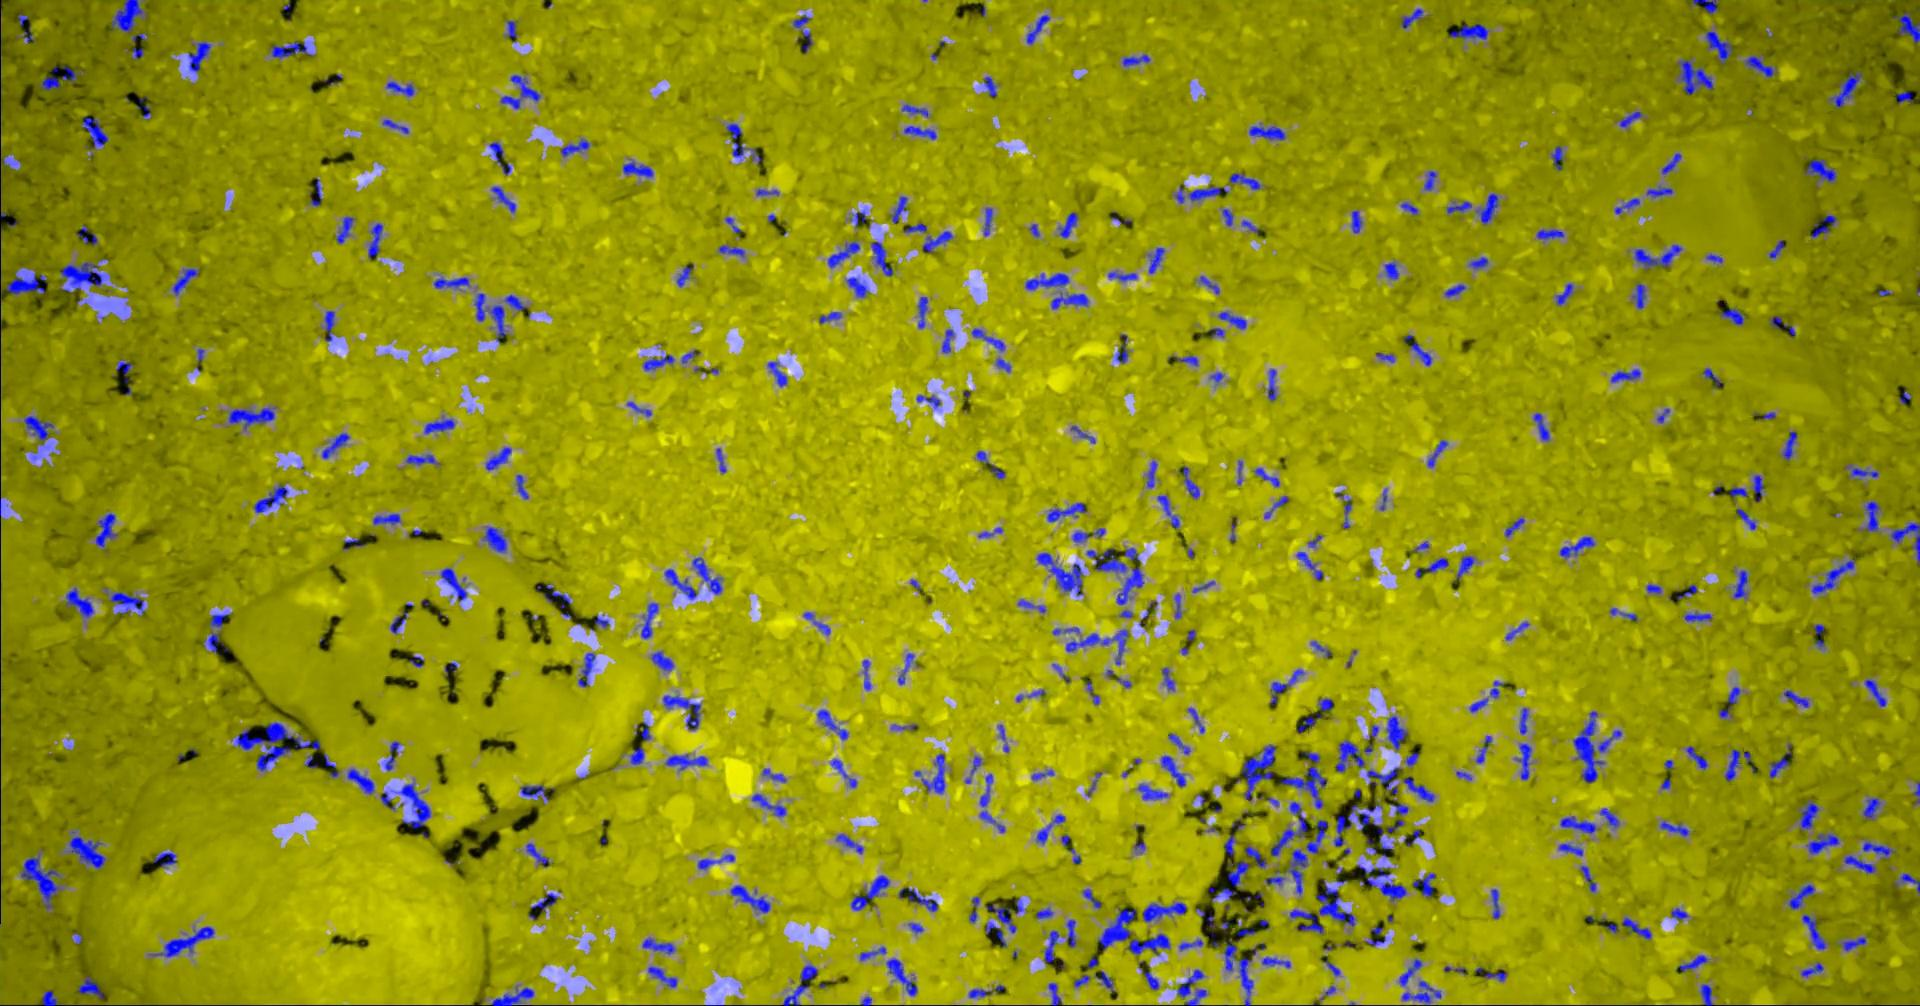ant: (1572, 711, 1622, 782), (1280, 751, 1326, 808), (1355, 804, 1403, 857), (1065, 629, 1128, 664), (20, 854, 60, 908), (1239, 744, 1275, 800), (150, 926, 215, 956), (1223, 937, 1252, 1005), (1270, 801, 1307, 855), (1036, 553, 1082, 594), (1356, 864, 1406, 901), (394, 782, 430, 828), (1208, 861, 1250, 901), (1316, 883, 1355, 925), (474, 293, 505, 343), (1811, 558, 1854, 593), (782, 964, 817, 1005), (69, 831, 105, 868), (850, 875, 889, 909), (662, 695, 700, 729), (1677, 58, 1713, 94), (536, 583, 571, 617), (1829, 70, 1862, 107), (60, 262, 103, 290), (1890, 522, 1919, 563), (1297, 699, 1332, 732), (1634, 244, 1681, 268), (1270, 669, 1303, 704), (39, 64, 80, 90), (692, 558, 721, 594), (886, 958, 916, 995), (1175, 183, 1227, 203), (730, 885, 770, 912), (229, 406, 274, 429), (1116, 567, 1143, 605), (110, 0, 142, 32), (664, 568, 696, 600), (253, 484, 288, 512), (0, 272, 46, 293), (1284, 848, 1305, 894), (1086, 547, 1126, 572), (1401, 981, 1441, 1005), (1333, 804, 1356, 846), (898, 887, 937, 911), (817, 709, 847, 739), (1705, 30, 1732, 65), (439, 567, 466, 601), (921, 753, 943, 793), (1335, 741, 1364, 771), (1366, 767, 1399, 794), (1403, 334, 1431, 365), (65, 587, 93, 617), (985, 904, 1016, 932), (1892, 11, 1919, 43), (1724, 748, 1751, 780), (1142, 902, 1186, 921), (1289, 909, 1323, 934), (510, 74, 540, 102), (81, 116, 107, 147), (827, 241, 858, 267), (110, 591, 143, 615), (750, 793, 785, 815), (1802, 915, 1825, 949), (977, 450, 1004, 478), (1297, 551, 1323, 580), (23, 415, 53, 441), (1025, 272, 1068, 290), (1161, 754, 1185, 786), (1402, 777, 1434, 801), (971, 328, 1004, 351), (321, 432, 349, 459), (1177, 969, 1204, 997), (491, 987, 533, 1005), (830, 758, 856, 788), (1559, 536, 1594, 558), (1385, 715, 1407, 749), (1769, 743, 1790, 777), (1305, 819, 1327, 854), (792, 14, 811, 52), (1743, 55, 1775, 77), (1046, 502, 1084, 521), (270, 41, 314, 57), (489, 141, 510, 174), (171, 268, 198, 295), (1787, 884, 1815, 909), (1026, 14, 1049, 44), (1804, 159, 1835, 182), (1476, 193, 1498, 224), (871, 241, 891, 276), (95, 512, 116, 546), (188, 41, 210, 72), (1157, 495, 1178, 527), (1806, 833, 1839, 854), (922, 230, 952, 251), (1718, 686, 1740, 716), (1248, 122, 1285, 140), (1559, 815, 1596, 833), (726, 123, 745, 158), (577, 652, 596, 686), (1449, 23, 1488, 39), (491, 185, 516, 212), (347, 768, 373, 793), (1622, 916, 1651, 937), (1415, 558, 1448, 577), (1810, 215, 1836, 238), (483, 526, 505, 553), (803, 611, 829, 634), (1398, 958, 1421, 984), (1335, 492, 1351, 528), (640, 602, 657, 638), (1515, 743, 1531, 779), (1843, 855, 1876, 873), (665, 754, 707, 768), (1411, 873, 1435, 897), (1050, 292, 1088, 307), (77, 976, 103, 998), (1864, 680, 1886, 706), (1427, 439, 1448, 467), (1138, 962, 1158, 989), (648, 967, 676, 987), (116, 359, 132, 394), (367, 222, 382, 259), (697, 854, 734, 869), (1263, 495, 1288, 518), (524, 843, 549, 866), (485, 447, 510, 469), (979, 810, 1004, 832), (1229, 171, 1260, 189), (1769, 316, 1796, 337), (836, 833, 862, 854), (1182, 465, 1199, 497), (897, 652, 913, 683), (643, 937, 674, 954), (560, 138, 589, 156), (1217, 311, 1246, 329), (1137, 782, 1167, 799), (521, 785, 554, 800), (1862, 841, 1895, 856), (1531, 412, 1549, 439), (1801, 800, 1818, 828), (1399, 8, 1423, 28), (985, 922, 1006, 946), (1058, 212, 1077, 238), (767, 361, 786, 386), (423, 418, 455, 433), (1253, 467, 1279, 486), (1043, 930, 1058, 962), (1677, 954, 1707, 970), (335, 216, 353, 243), (1244, 846, 1266, 868), (622, 161, 653, 177), (846, 277, 869, 297), (643, 354, 673, 370), (1686, 746, 1707, 768), (1658, 821, 1689, 836), (903, 124, 936, 138), (433, 276, 469, 288), (1783, 690, 1808, 708), (383, 741, 399, 770), (1148, 246, 1164, 273), (531, 893, 557, 909), (1661, 152, 1681, 174), (1168, 733, 1189, 754), (1505, 621, 1528, 640), (1070, 426, 1095, 443), (386, 81, 414, 97), (891, 196, 907, 224), (1610, 368, 1641, 382), (1782, 431, 1797, 459), (1865, 500, 1879, 531), (1363, 724, 1378, 752), (1476, 735, 1491, 763), (1719, 307, 1745, 324), (979, 774, 992, 807), (76, 225, 97, 245), (1736, 508, 1756, 528), (1095, 970, 1115, 991), (1849, 465, 1878, 479), (1457, 555, 1474, 578), (1862, 796, 1879, 819), (1187, 708, 1204, 732), (1614, 198, 1639, 213), (1702, 367, 1721, 387), (626, 401, 651, 417), (1503, 517, 1524, 536), (1600, 807, 1619, 827), (1580, 865, 1595, 890), (1898, 873, 1919, 892), (1082, 888, 1101, 908), (676, 264, 693, 286), (390, 611, 408, 633), (651, 652, 673, 669), (1733, 570, 1747, 597), (1609, 607, 1636, 621), (858, 946, 885, 960), (1115, 334, 1128, 363), (323, 753, 338, 777), (1841, 936, 1865, 951), (1199, 276, 1219, 293), (1619, 111, 1641, 127), (1556, 283, 1572, 305), (504, 293, 526, 310), (382, 119, 408, 133), (1017, 600, 1045, 612), (1183, 989, 1206, 1005), (1768, 239, 1785, 258), (717, 244, 744, 257), (1630, 283, 1644, 307), (761, 768, 785, 782), (405, 453, 438, 464), (207, 633, 223, 653), (310, 177, 321, 206), (136, 98, 151, 119), (1691, 0, 1717, 13), (1550, 145, 1563, 170), (917, 296, 927, 328), (916, 394, 938, 408), (1145, 460, 1157, 488), (1161, 667, 1175, 690), (1084, 681, 1098, 704), (152, 852, 175, 866), (1801, 962, 1823, 976), (1048, 982, 1062, 1005), (1265, 869, 1284, 885), (324, 310, 334, 340), (1676, 584, 1697, 600), (1310, 641, 1331, 657), (1036, 823, 1051, 843), (1446, 201, 1470, 213), (516, 474, 528, 498), (1123, 55, 1149, 66), (1646, 185, 1672, 197), (1537, 227, 1563, 239), (372, 513, 399, 525), (1261, 956, 1290, 967), (902, 104, 927, 116), (635, 721, 650, 741), (1389, 799, 1408, 814), (1170, 354, 1197, 365), (1065, 920, 1076, 948), (0, 155, 8, 192), (941, 329, 952, 353), (1558, 843, 1582, 855), (1178, 939, 1203, 950), (1444, 285, 1465, 297), (1483, 968, 1505, 981), (1752, 474, 1763, 500), (1684, 611, 1710, 621), (1490, 888, 1498, 918), (969, 895, 979, 922), (41, 989, 58, 1005), (1384, 260, 1398, 279), (210, 614, 229, 627), (1490, 680, 1503, 699), (1351, 210, 1363, 232), (818, 311, 841, 323), (1107, 272, 1137, 281), (983, 76, 996, 97), (500, 95, 521, 108), (1423, 170, 1436, 191), (1700, 984, 1713, 1005), (850, 211, 866, 226), (983, 207, 992, 235), (1469, 697, 1487, 711), (380, 791, 394, 809), (1031, 768, 1053, 780), (1223, 835, 1234, 856), (902, 222, 926, 232), (1267, 368, 1275, 400), (342, 539, 364, 549), (716, 447, 725, 473), (1519, 708, 1528, 733), (630, 746, 643, 763), (1670, 907, 1688, 920), (968, 988, 993, 997), (862, 659, 870, 688), (1236, 929, 1255, 940), (1124, 547, 1139, 561), (505, 20, 516, 41), (1895, 91, 1912, 103), (1399, 202, 1417, 213), (1469, 257, 1487, 268), (996, 357, 1010, 371), (1375, 352, 1394, 362), (593, 615, 608, 627), (127, 47, 143, 58), (1072, 531, 1088, 542), (1035, 907, 1051, 918), (1073, 974, 1090, 986), (1222, 208, 1232, 226), (1406, 751, 1418, 765), (1728, 486, 1747, 495), (1051, 627, 1078, 634), (1208, 326, 1223, 337), (1646, 583, 1661, 593), (1175, 593, 1180, 619)
